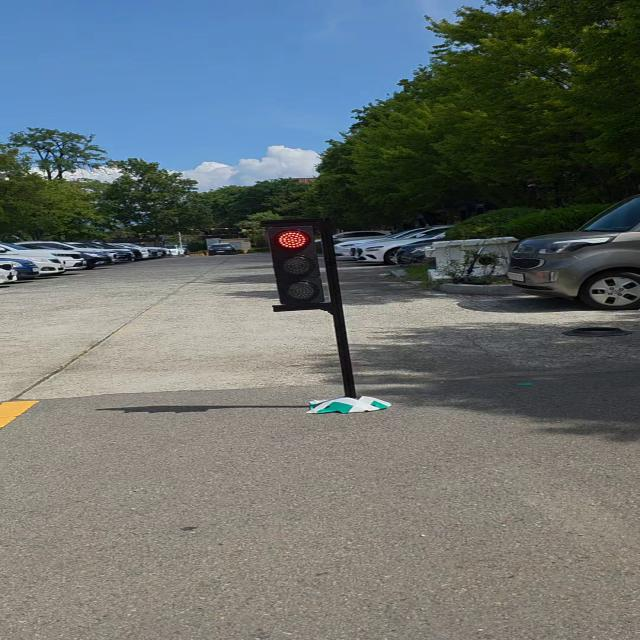red: (261, 218, 329, 312)
